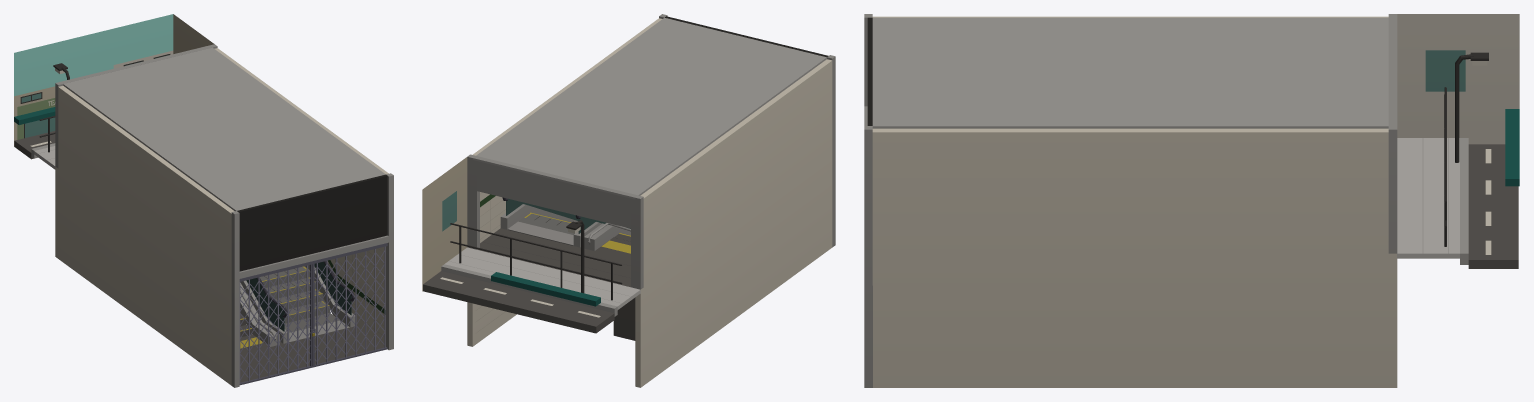
Rendered from station_entrance.glb.
3 renders of one model, left to right at view 1: azimuth 30°, elevation 25°; view 2: azimuth 150°, elevation 25°; view 3: azimuth 270°, elevation 25°, orthographic. The views are drawn at different scales.
Parts seen in each view (by area): view 1: station_entrance; view 2: station_entrance; view 3: station_entrance.
Part boxes in pixels (x1=…): station_entrance: x1=14, y1=14, x2=393, y2=387; station_entrance: x1=422, y1=14, x2=835, y2=387; station_entrance: x1=864, y1=14, x2=1519, y2=387.
Bounding box in the file's own units: 4.8 × 5 × 11.5.
